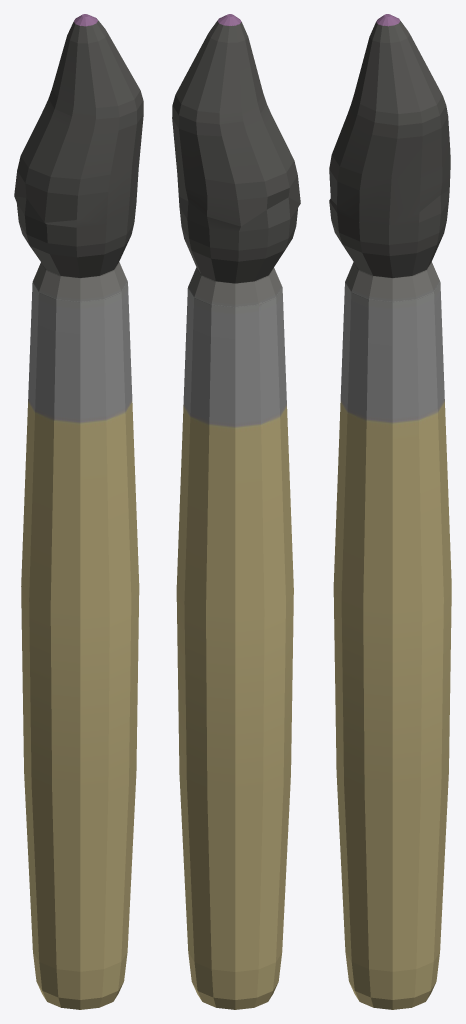
File: paintbrushcprsd.glb
The picture shows the model from 3 angles, left to right: view 1: azimuth 30°, elevation 25°; view 2: azimuth 210°, elevation 25°; view 3: azimuth 330°, elevation 25°; orthographic projection.
Parts seen in each view (by area): view 1: Cylinder.003; view 2: Cylinder.003; view 3: Cylinder.003.
Boxes of the visible parts, x1,y1,x2,y2 form: Cylinder.003: (14,14,143,1009); Cylinder.003: (172,14,300,1009); Cylinder.003: (329,14,451,1009).
Bounding box in the file's own units: 0.5211 × 4.5 × 0.504.
1 material, 1 textured.
